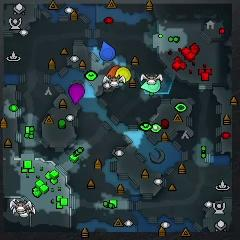p1: (100, 40, 115, 61)
p2: (141, 79, 160, 92)
p3: (69, 83, 84, 104)
p4: (116, 67, 131, 82)
p5: (107, 66, 119, 77)
